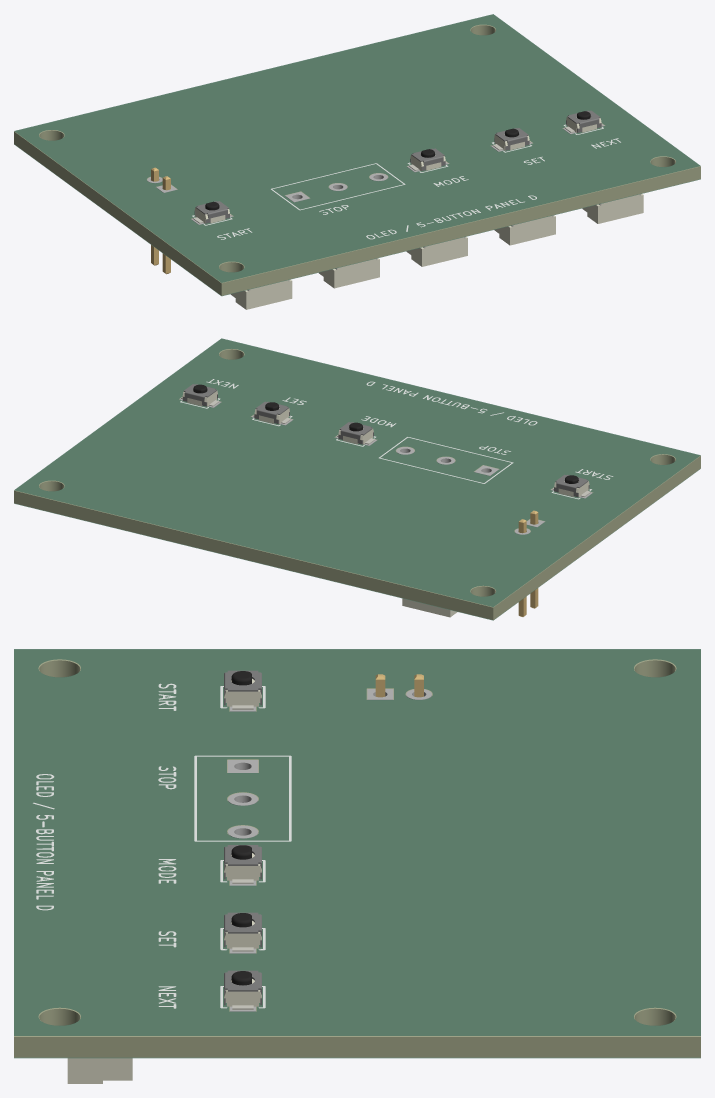
File: pump-panel-rev-d.glb
3 renders of one model, top to bottom at view 1: azimuth 30°, elevation 25°; view 2: azimuth 150°, elevation 25°; view 3: azimuth 270°, elevation 25°, orthographic. The views are drawn at different scales.
Parts seen in each view (by area): view 1: =>[0:1:1:23], =>[0:1:1:21], =>[0:1:1:7] (×5), =>[0:1:1:3] (×4), =>[0:1:1:19], =>[0:1:1:22], =>[0:1:1:18], =>[0:1:1:11]; view 2: =>[0:1:1:23], =>[0:1:1:21], =>[0:1:1:3] (×4), =>[0:1:1:19], =>[0:1:1:22], =>[0:1:1:18], =>[0:1:1:11]; view 3: =>[0:1:1:23], =>[0:1:1:21], =>[0:1:1:3] (×4), =>[0:1:1:19], =>[0:1:1:18], =>[0:1:1:7], =>[0:1:1:22].
Part boxes in pixels (box(x1,y1,x2,y2)): =>[0:1:1:23]: box(14, 15, 700, 295); =>[0:1:1:21]: box(14, 14, 700, 282); =>[0:1:1:7] (×5): box(231, 194, 643, 309); =>[0:1:1:3] (×4): box(193, 110, 602, 223); =>[0:1:1:19]: box(192, 124, 620, 239); =>[0:1:1:22]: box(14, 144, 700, 296); =>[0:1:1:18]: box(147, 124, 604, 224); =>[0:1:1:11]: box(151, 167, 170, 274); =>[0:1:1:23]: box(14, 339, 700, 620); =>[0:1:1:21]: box(14, 338, 700, 607); =>[0:1:1:3] (×4): box(181, 384, 590, 497); =>[0:1:1:19]: box(180, 379, 613, 499); =>[0:1:1:22]: box(14, 468, 700, 620); =>[0:1:1:18]: box(179, 398, 592, 534); =>[0:1:1:11]: box(518, 510, 538, 616); =>[0:1:1:23]: box(14, 650, 700, 1057); =>[0:1:1:21]: box(14, 649, 700, 1035); =>[0:1:1:3] (×4): box(224, 670, 261, 1009); =>[0:1:1:19]: box(33, 683, 291, 1008); =>[0:1:1:18]: box(227, 689, 431, 1011); =>[0:1:1:7]: box(67, 1058, 132, 1083); =>[0:1:1:22]: box(14, 1057, 700, 1058).
Bounding box in the file's own units: 0.06 × 0.0118 × 0.045.
